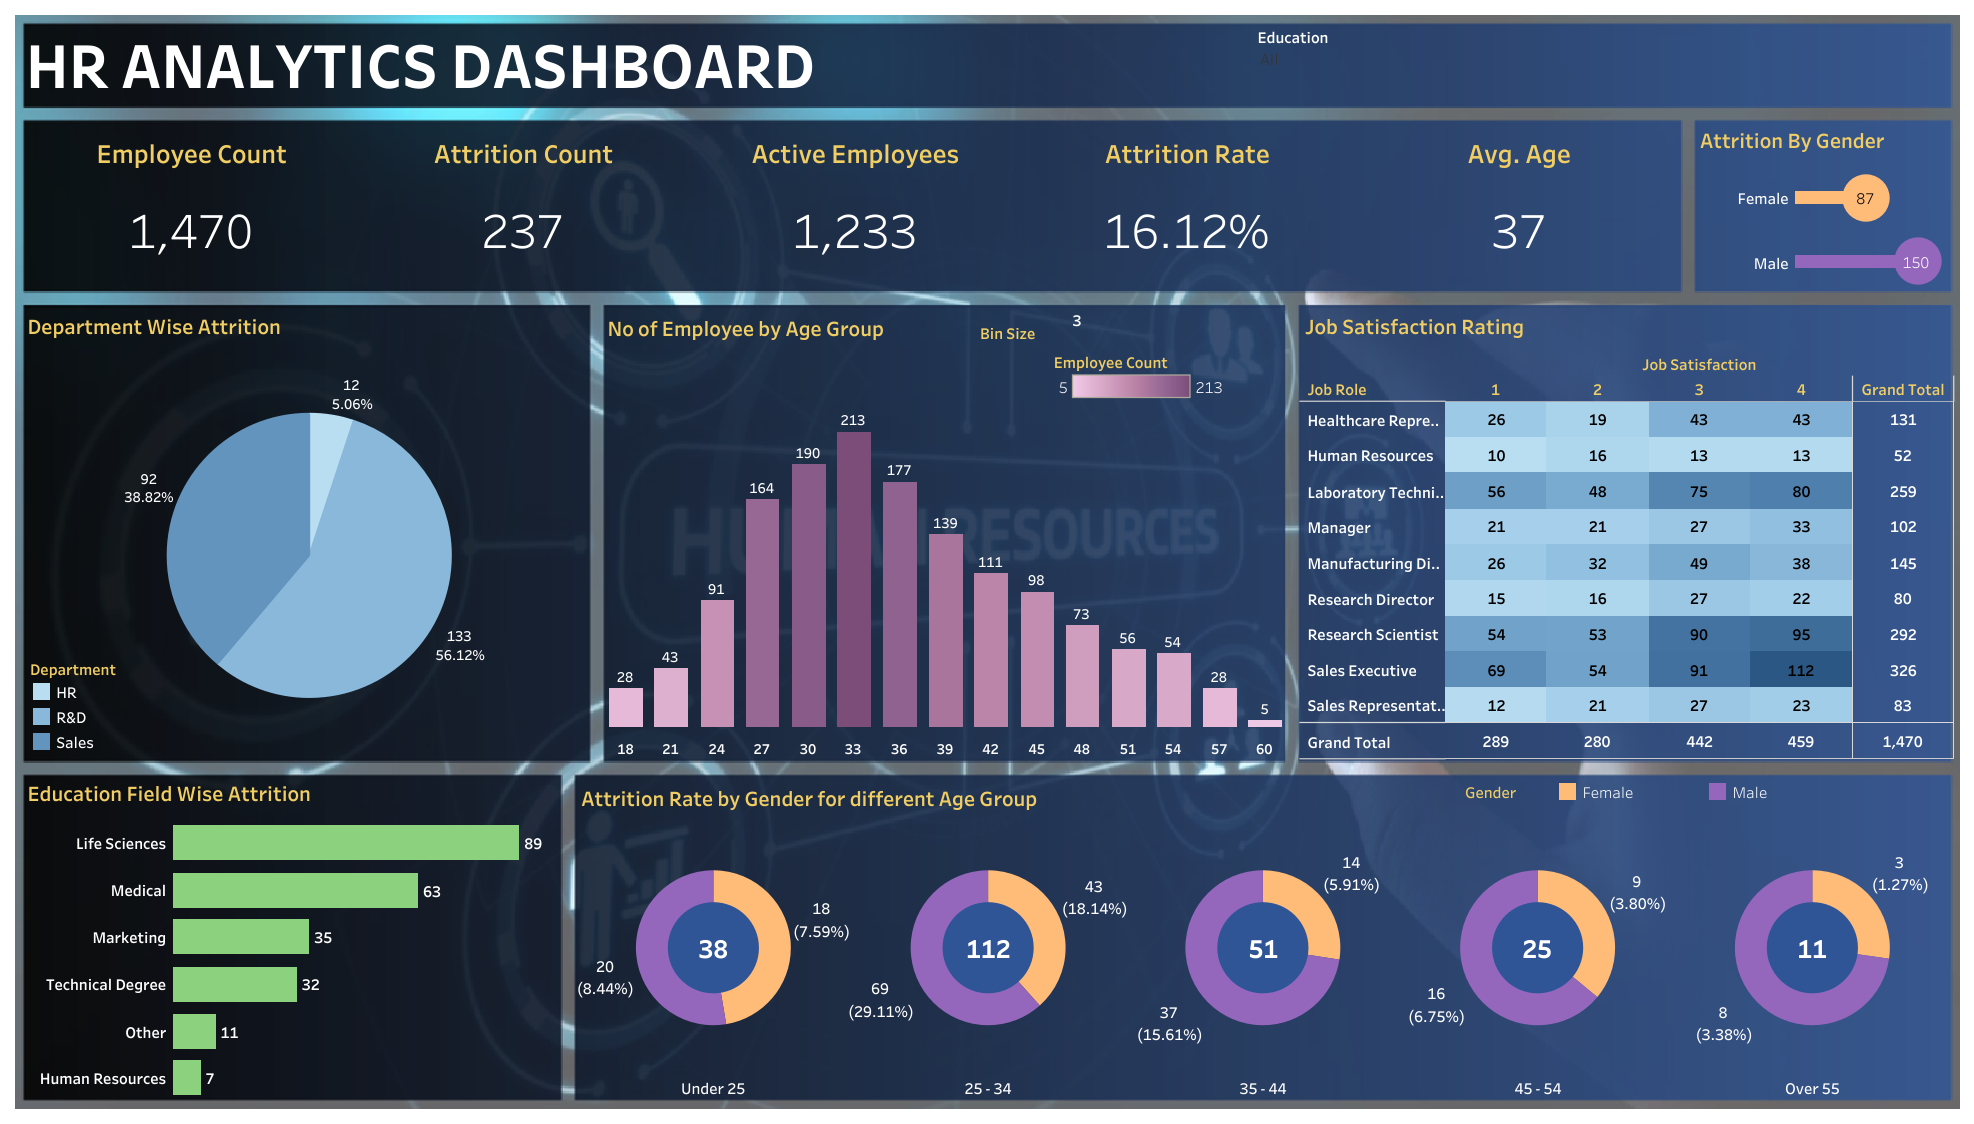

The dashboard page shown, as its layout file describes it:
{"tool":"tableau","page":{"name":"HR ANALYTICS DASHBOARD","canvas":[1580,900],"ordinal":0},"visuals":[{"type":"image","param":"D:/chrome downloads/HR background.pptx.png","box":[8,8,1564,884]},{"type":"text","box":[18,17,1543,66]},{"type":"filter","title":"Department Wise Attrition","param":"[federated.0613tyo19ta3vl161p1251xz7k3f].[none:Education:nk]","box":[1006,19,225,65]},{"type":"worksheet","title":"Attrition By Gender","mark":"Automatic","rows":["Gender"],"cols":["Calculation_1221882916740816898","Calculation_1221882916740816898"],"box":[1356,94,202,141]},{"type":"worksheet","title":"KPI","mark":"Automatic","box":[21,96,1327,134]},{"type":"worksheet","title":"Department Wise Attrition","mark":"Pie","box":[18,243,458,365]},{"type":"worksheet","title":"Job Satisfaction Rating","mark":"Square","rows":["Job Role"],"cols":["Job Satisfaction"],"box":[1040,243,524,365]},{"type":"worksheet","title":"No of Employee by Age Group ","mark":"Automatic","rows":["Employee Count"],"cols":["Age (bin)"],"box":[482,245,548,362]},{"type":"parameter","param":"[Parameters].[Parameter 1]","box":[784,247,242,38]},{"type":"legend","title":"No of Employee by Age Group ","param":"[federated.0613tyo19ta3vl161p1251xz7k3f].[sum:Employee Count:qk]","box":[843,276,140,52]},{"type":"legend","title":"Department Wise Attrition","param":"[federated.0613tyo19ta3vl161p1251xz7k3f].[none:Department:nk]","box":[23,524,140,85]},{"type":"worksheet","title":"Education Field Wise Attrition","mark":"Automatic","rows":["Education Field"],"cols":["Calculation_1221882916740816898"],"box":[18,617,434,264]},{"type":"worksheet","title":"Attrition Rate by Gender for different Age Group","mark":"Pie","rows":["Calculation_1221882916882321414","Calculation_1221882916882321414"],"cols":["CF_age band"],"box":[461,621,1099,258]},{"type":"legend","title":"Attrition Rate by Gender for different Age Group","param":"[federated.0613tyo19ta3vl161p1251xz7k3f].[none:Gender:nk]","box":[1172,623,387,34]}]}

Visuals, with their boxes in screenshot pixels (x1, y1, x2, y2), scaled from the page's 1580x900 canvas onto the 1974x1124 screenshot:
image: (x1=10, y1=10, x2=1964, y2=1114)
text: (x1=22, y1=21, x2=1950, y2=104)
"Department Wise Attrition" filter: (x1=1257, y1=24, x2=1538, y2=105)
"Attrition By Gender" worksheet: (x1=1694, y1=117, x2=1947, y2=293)
"KPI" worksheet: (x1=26, y1=120, x2=1684, y2=287)
"Department Wise Attrition" worksheet (Pie marks): (x1=22, y1=303, x2=595, y2=759)
"Job Satisfaction Rating" worksheet (Square marks): (x1=1299, y1=303, x2=1954, y2=759)
"No of Employee by Age Group " worksheet: (x1=602, y1=306, x2=1287, y2=758)
parameter: (x1=980, y1=308, x2=1282, y2=356)
"No of Employee by Age Group " legend: (x1=1053, y1=345, x2=1228, y2=410)
"Department Wise Attrition" legend: (x1=29, y1=654, x2=204, y2=761)
"Education Field Wise Attrition" worksheet: (x1=22, y1=771, x2=565, y2=1100)
"Attrition Rate by Gender for different Age Group" worksheet (Pie marks): (x1=576, y1=776, x2=1949, y2=1098)
"Attrition Rate by Gender for different Age Group" legend: (x1=1464, y1=778, x2=1948, y2=821)
